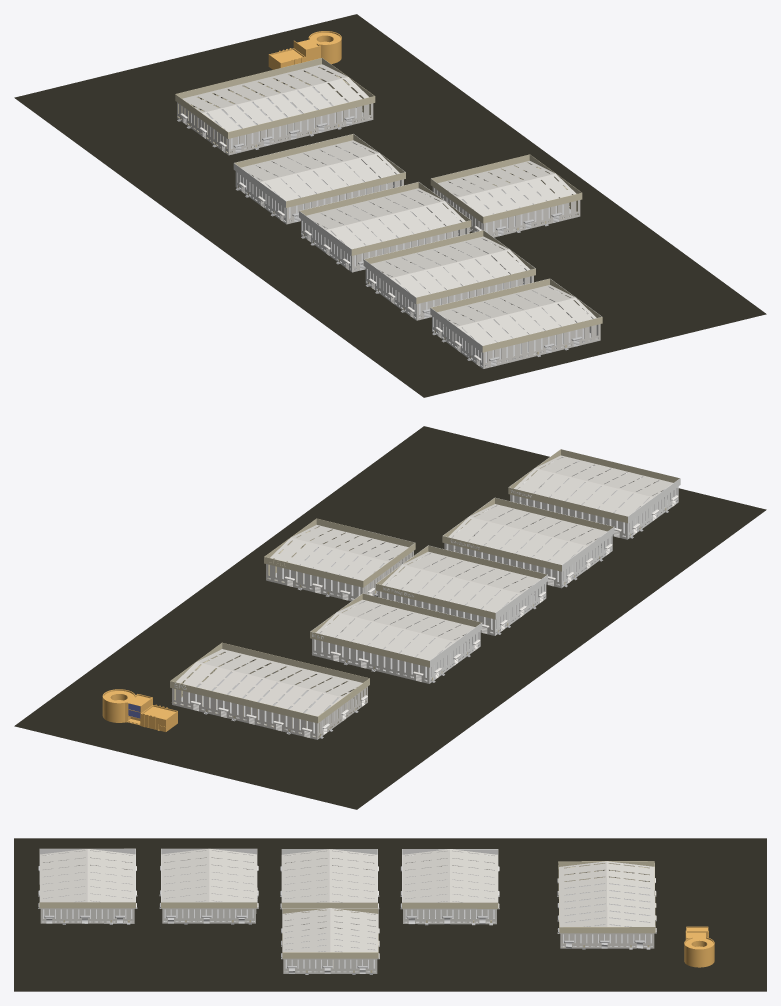
The picture shows the model from 3 angles, top to bottom: view 1: azimuth 30°, elevation 25°; view 2: azimuth 150°, elevation 25°; view 3: azimuth 270°, elevation 25°; orthographic projection. The views are drawn at different scales.
Visible parts, largest first — view 1: Plane, roof.003, walls .004, roof (2).001, roof (2).003, roof (2).002, roof (2), walls (1).004, roof (1), walls (1).001, walls (1).002, walls (1).003 (+5 smaller); view 2: Plane, roof.003, walls .004, roof (2), roof (2).001, roof (2).003, roof (2).002, walls (1).002, roof (1), walls (1).004, walls (1).003, walls (1).001 (+5 smaller); view 3: Plane, roof.003, roof (2).003, roof (2).002, roof (2).001, roof (2), roof (1), walls .004, walls (1).004, walls (1).001, walls (1).002, walls (1) (+8 smaller).
Boxes of the visible parts, x1,y1,x2,y2 form: Plane: (14,14,766,397); roof.003: (182,64,368,131); walls .004: (175,58,375,155); roof (2).001: (241,140,399,200); roof (2).003: (437,285,596,345); roof (2).002: (306,188,465,248); roof (2): (371,236,529,297); walls (1).004: (430,278,602,368); roof (1): (438,161,576,216); walls (1).001: (363,230,535,320); walls (1).002: (233,134,405,224); walls (1).003: (299,182,471,272); Plane: (14,426,766,809); roof.003: (176,649,362,716); walls .004: (170,642,369,739); roof (2): (448,504,607,564); roof (2).001: (316,599,475,660); roof (2).003: (514,455,672,516); roof (2).002: (382,551,540,612); walls (1).002: (310,593,482,683); roof (1): (270,525,408,580); walls (1).004: (508,449,680,539); walls (1).003: (375,545,547,635); walls (1).001: (442,497,614,587); Plane: (14,838,766,991); roof.003: (559,861,655,927); roof (2).003: (39,849,135,902); roof (2).002: (282,849,377,902); roof (2).001: (402,849,497,902); roof (2): (161,848,256,901); roof (1): (282,908,378,952); walls .004: (558,861,655,948); walls (1).004: (39,848,135,923); walls (1).001: (161,848,257,923); walls (1).002: (402,849,498,923); walls (1): (282,933,378,973).
Size of the model in its own units: 291 by 19.41 by 602.
